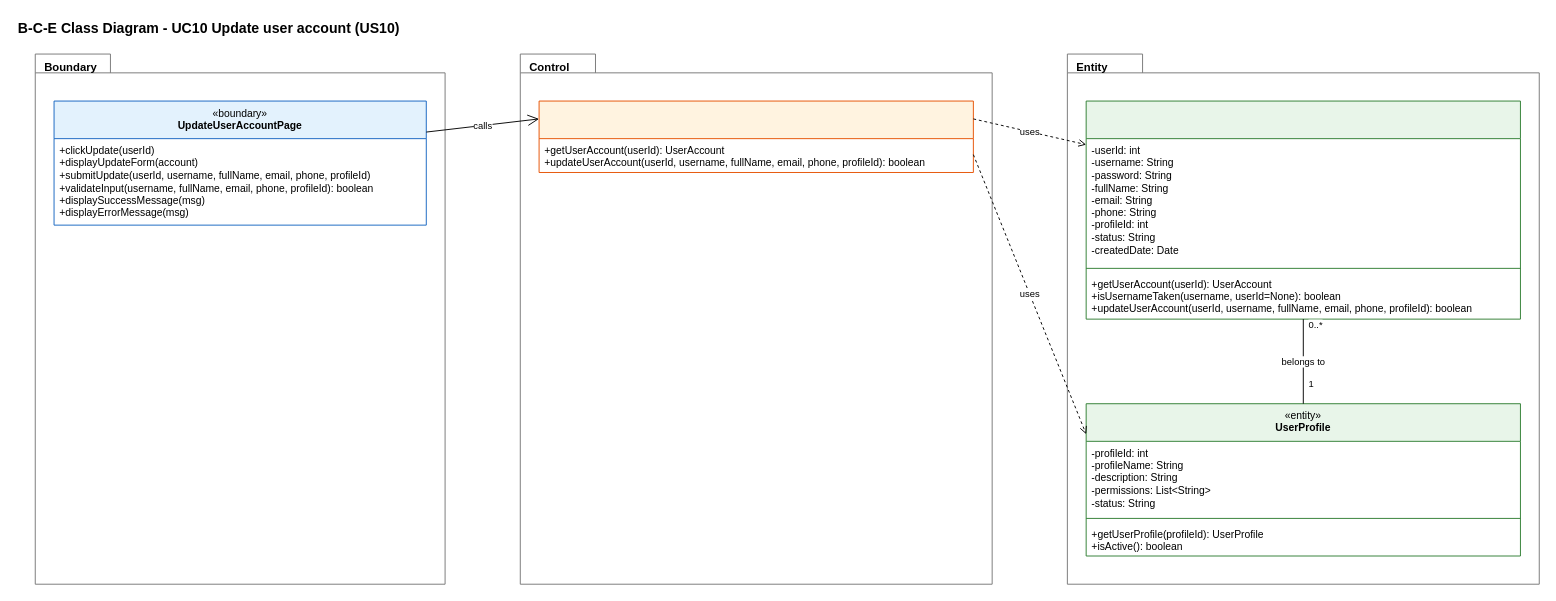
Some shapes in this 1556 by 601 pixel diagram are drawn without their labels. The box of each missing label's shape, as (x1, y1, x2, y2) in pixels:
«control» UpdateUserAccountController: (538, 100, 973, 172)
«entity» UserAccount: (1085, 100, 1520, 319)
